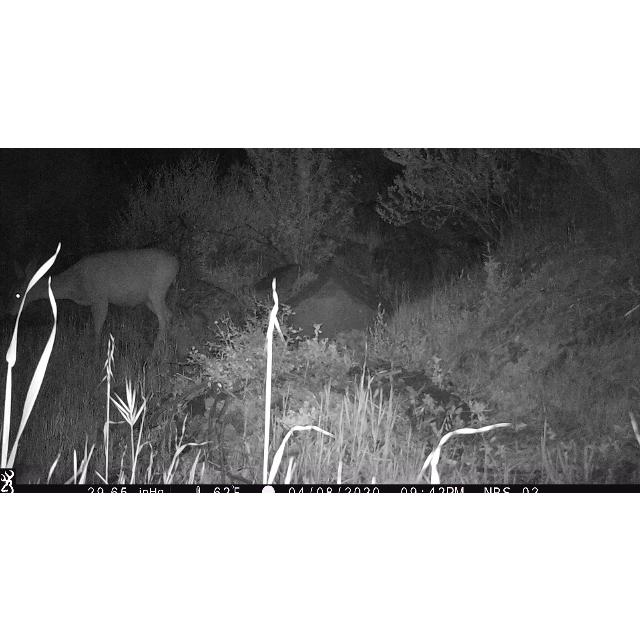animals: (0, 240, 184, 364)
